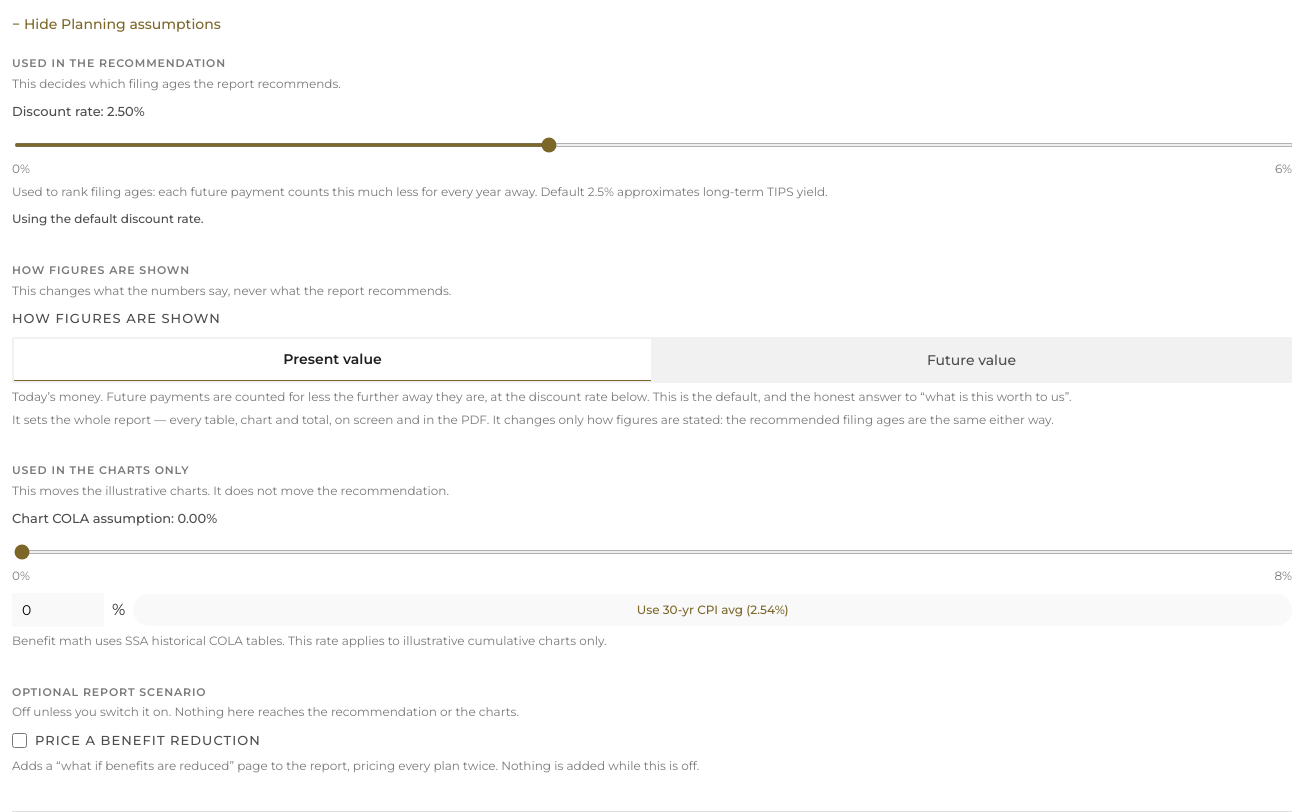
it: AssumptionsPanel COLA number input › clamps a typed value above the ceiling instead of letting it into state
Replace the text in the number field named "Annual COLA percentage" with "12" at (58, 610), box [12,593,104,627]
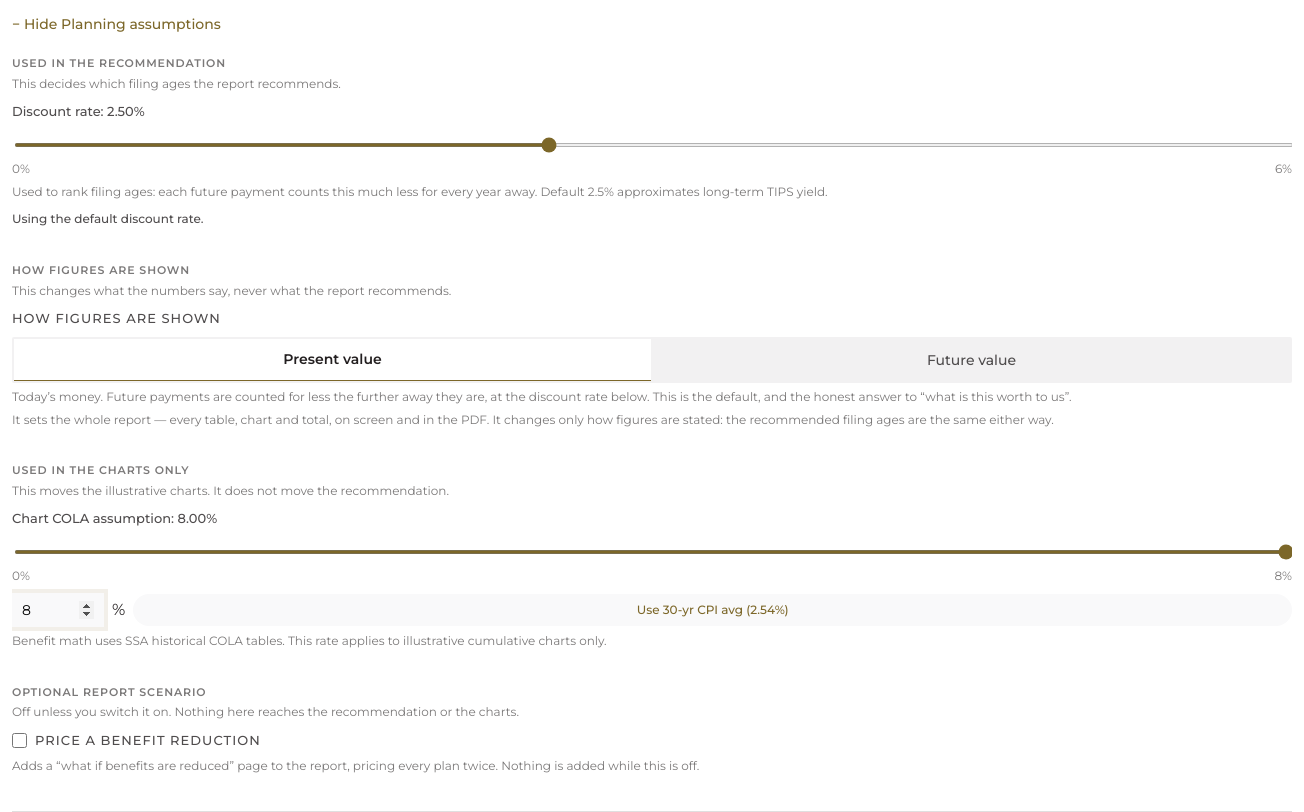
Check: the number field named "Annual COLA percentage" holds "8", box [12,593,104,627]
